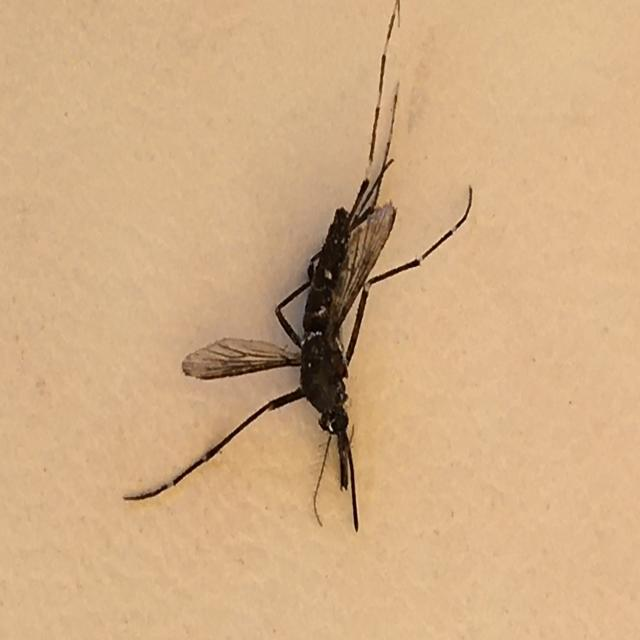albopictus: (153, 70, 507, 624)
